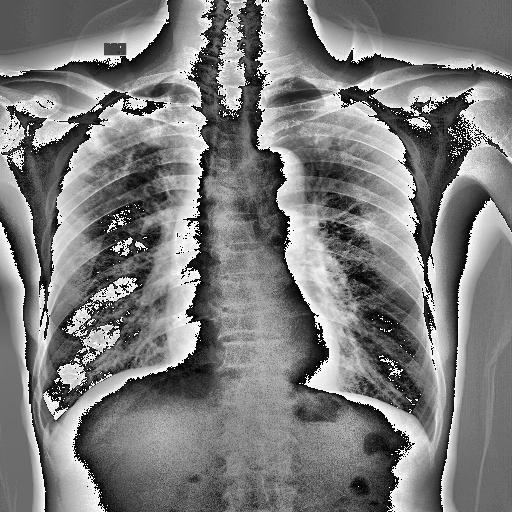0- Aortic enlargement: (252, 146, 306, 213), (244, 150, 304, 210)
10- Pleural effusion: (36, 419, 64, 442)
11- Pleural thickening: (88, 94, 146, 124), (36, 419, 64, 442)
13- Pulmonary fibrosis: (70, 93, 182, 225), (74, 96, 186, 186), (293, 96, 364, 150), (342, 212, 410, 240), (312, 124, 340, 166)
4- Consolidation: (293, 96, 364, 150), (136, 118, 168, 145)
6- Infiltration: (74, 96, 186, 186), (70, 126, 175, 204), (360, 211, 394, 235)
7- Lung Opacity: (314, 218, 421, 304), (70, 126, 175, 204)
